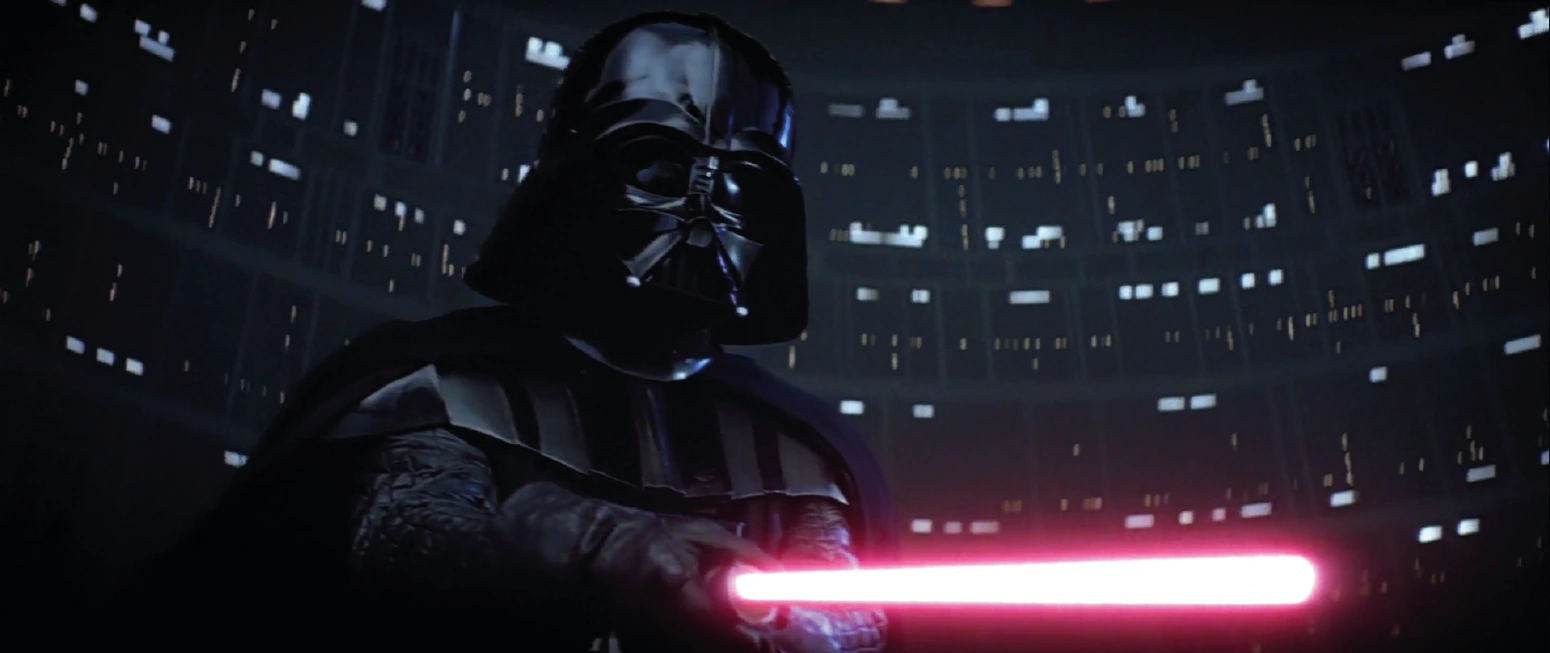cats: (592, 547, 1328, 630)
